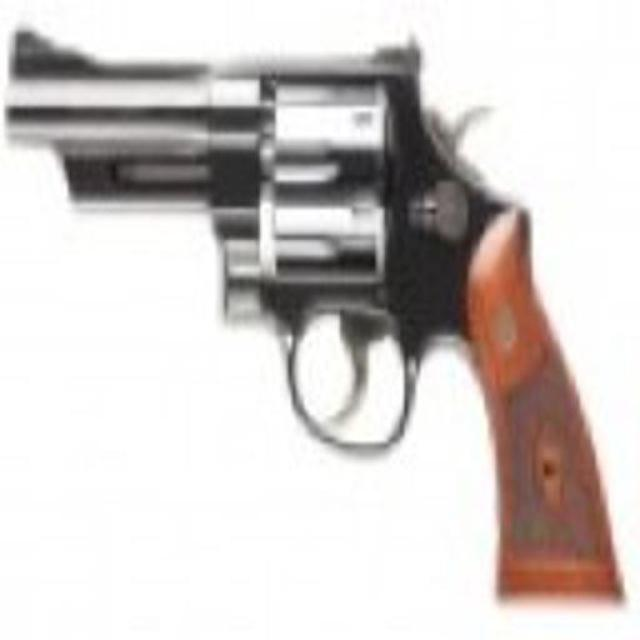pistol: (4, 15, 628, 612)
